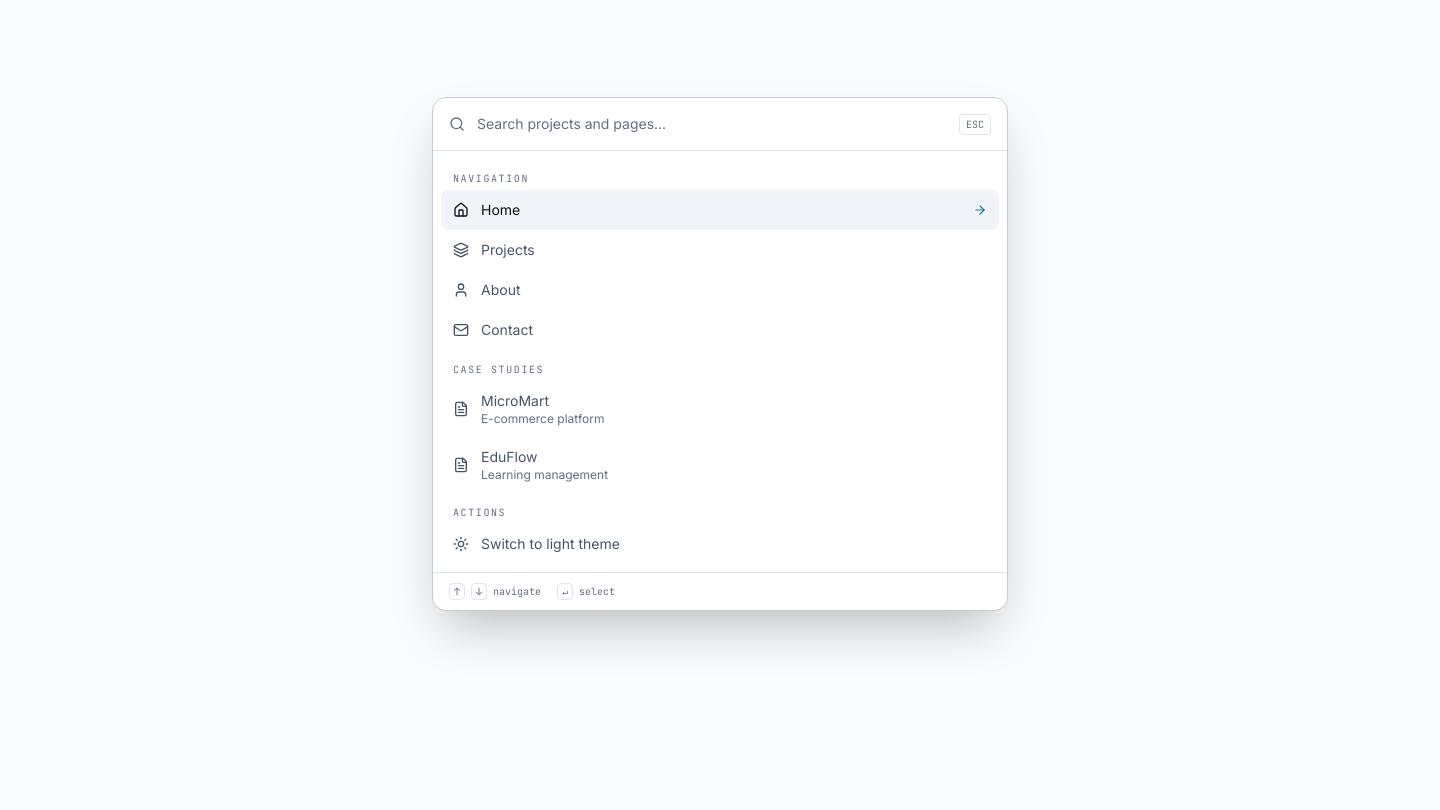
Test: CommandPalette › filters as the user types
Type "micro" into the field at (712, 124), box x1=477 y1=98 x2=947 y2=150
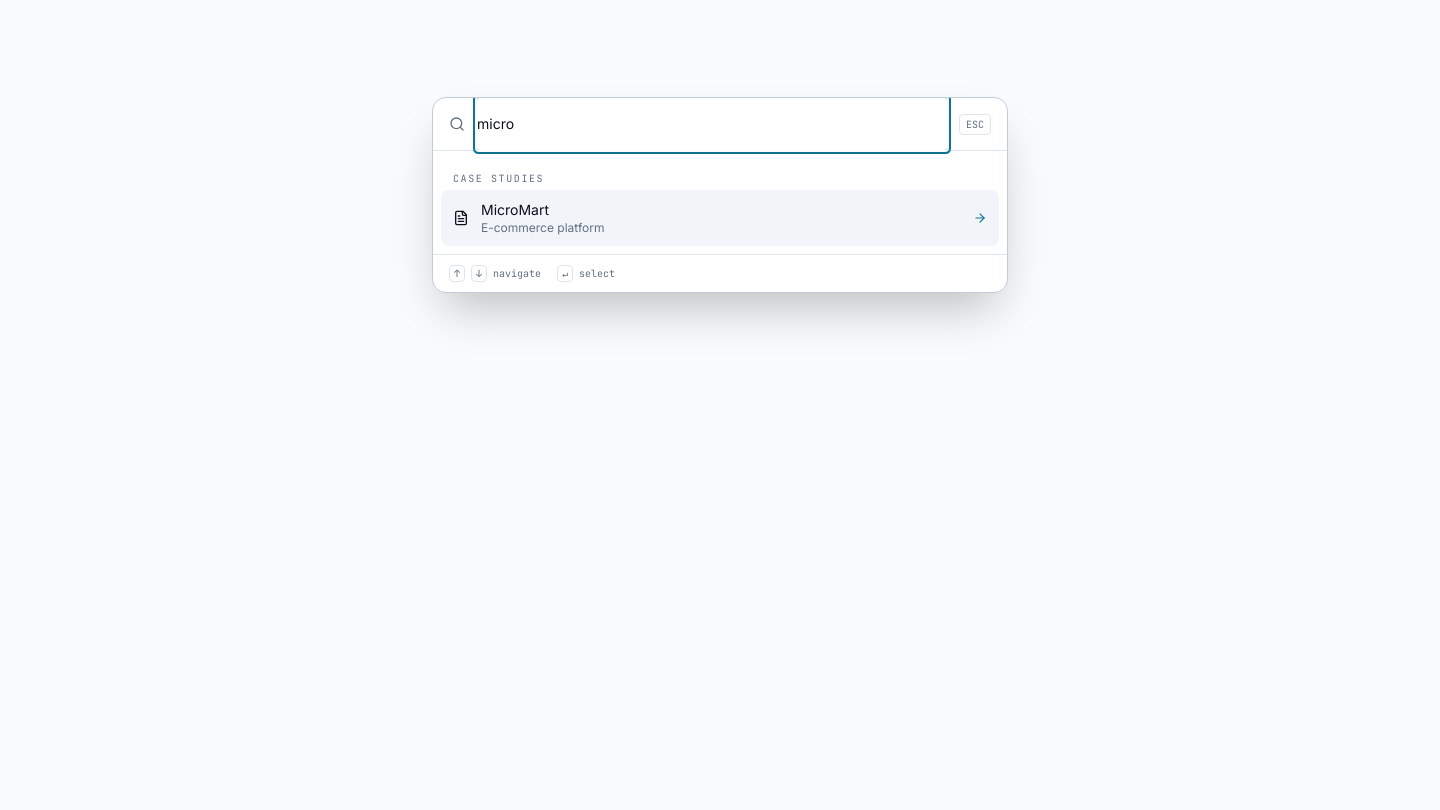
Check: the text "MicroMart" is shown, box x1=481 y1=201 x2=549 y2=218
Check: the button "EduFlow" is gone
